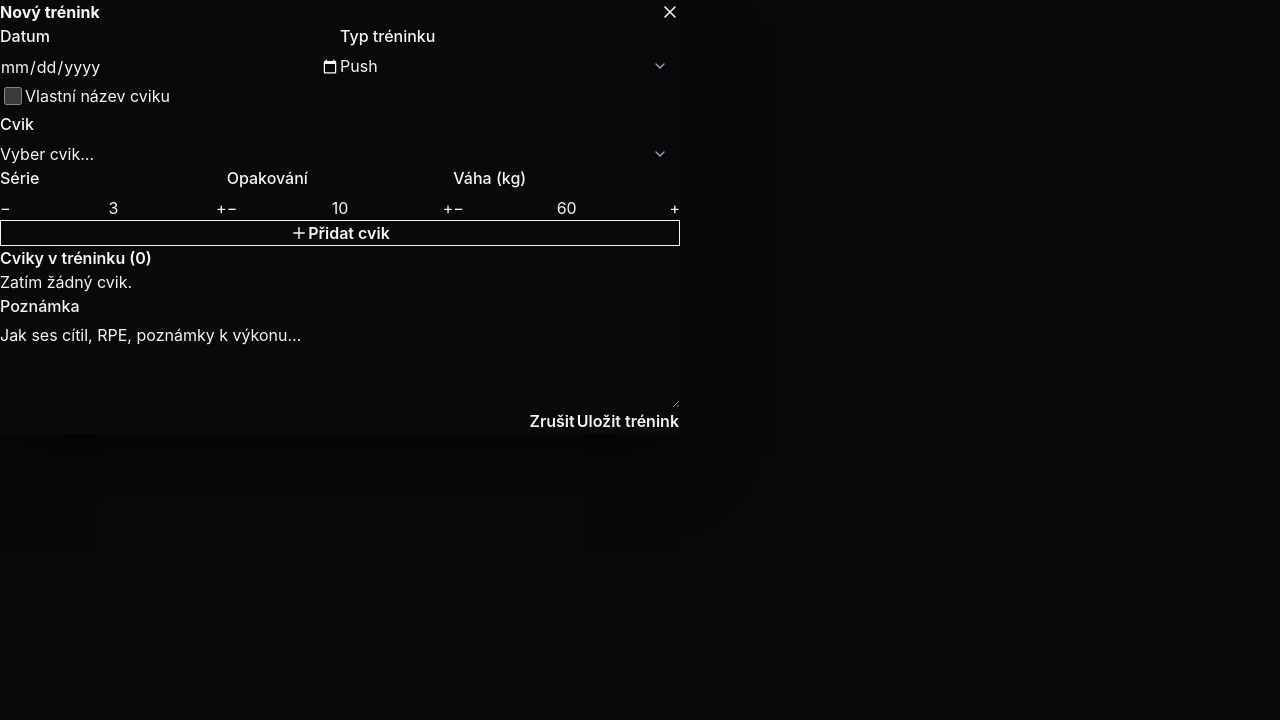
WorkoutForm › rejects 0 sets
Step 1. Select "Bench Press (Barbell)" in the dropdown labelled "Cvik" → (340, 154), box [0, 142, 680, 166]
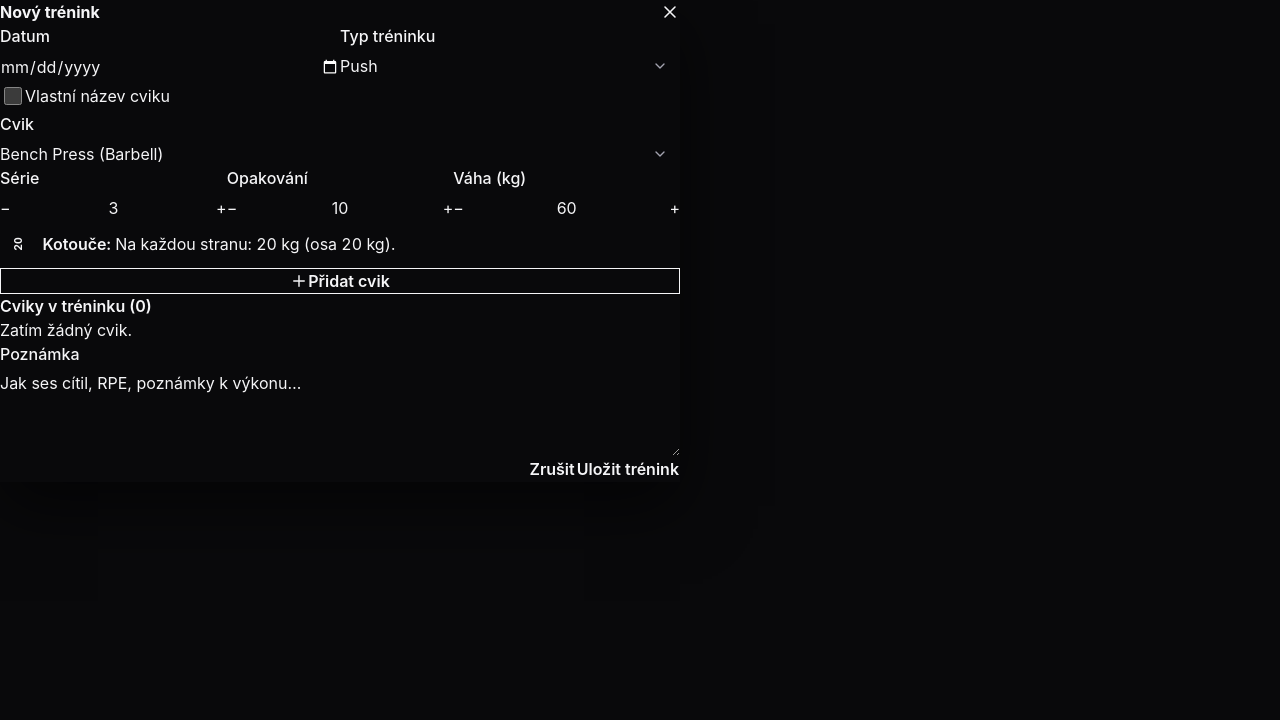
Step 2. Replace the text in the number field labelled "Série" with "0" → (113, 208), box [11, 196, 216, 220]
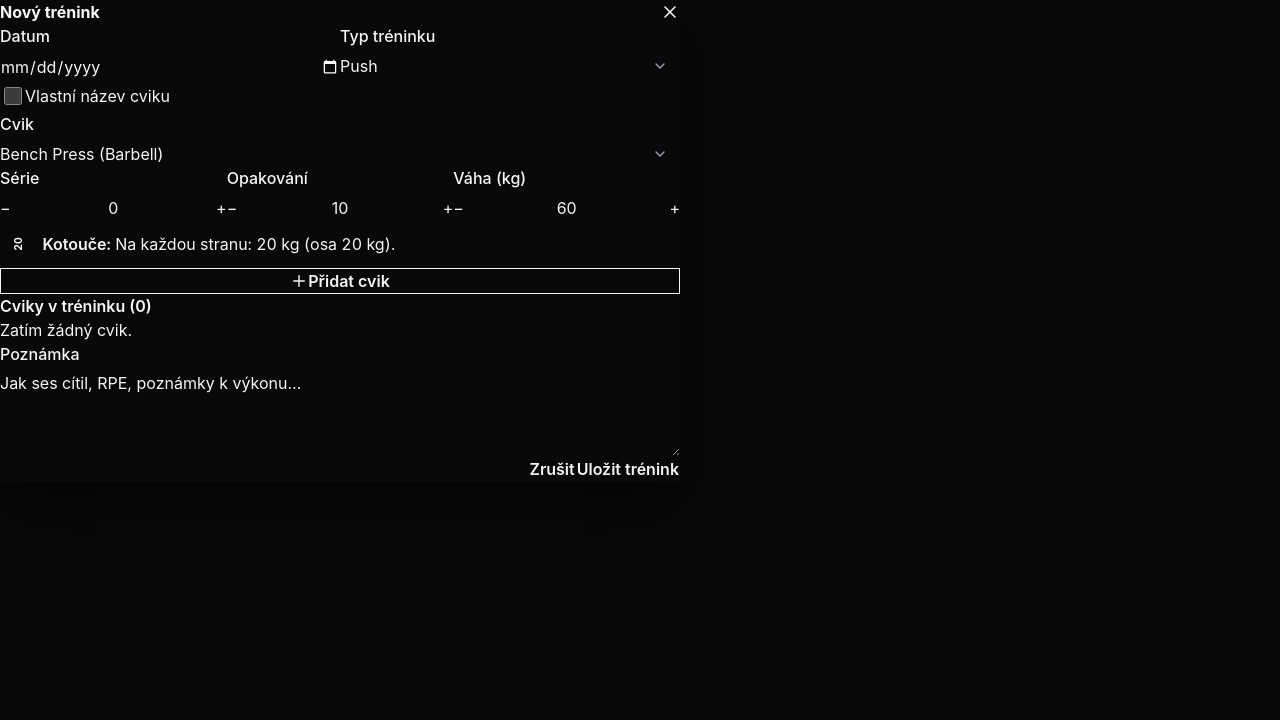
Step 3. Replace the text in the number field labelled "Opakování" with "8" → (340, 208), box [237, 196, 443, 220]
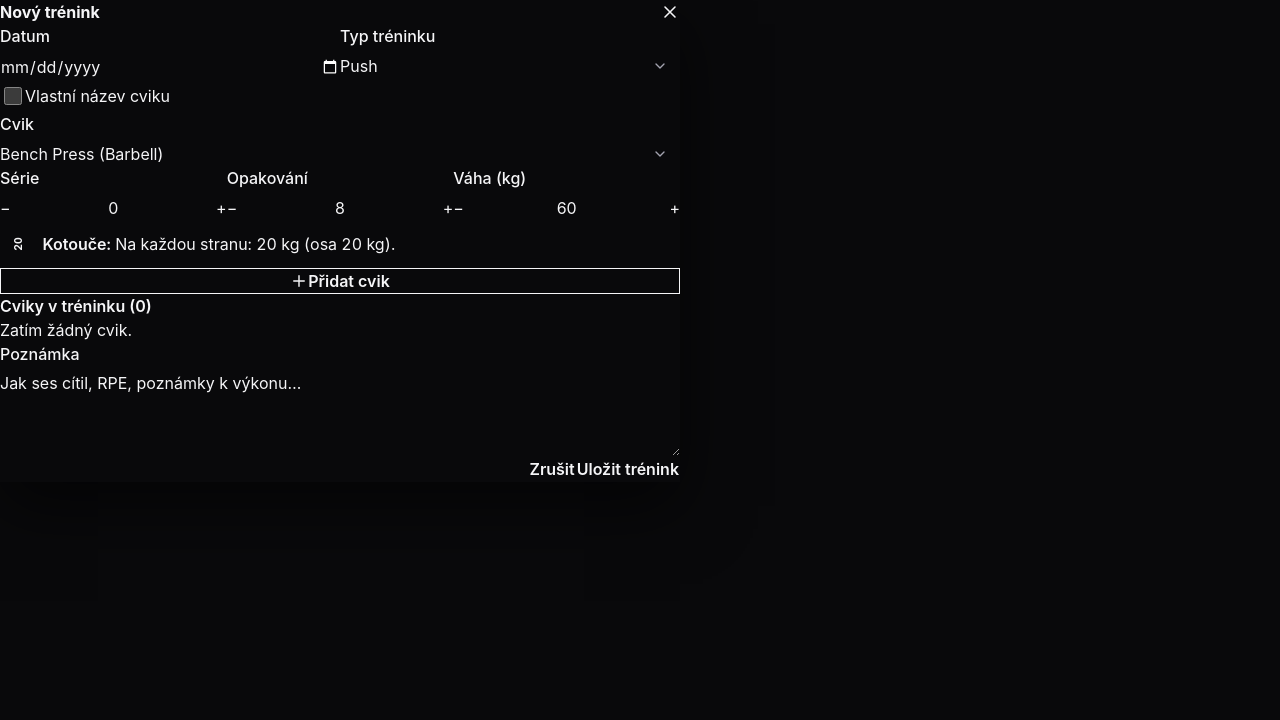
Step 4. Replace the text in the number field labelled "Váha (kg)" with "80" → (567, 208), box [464, 196, 669, 220]
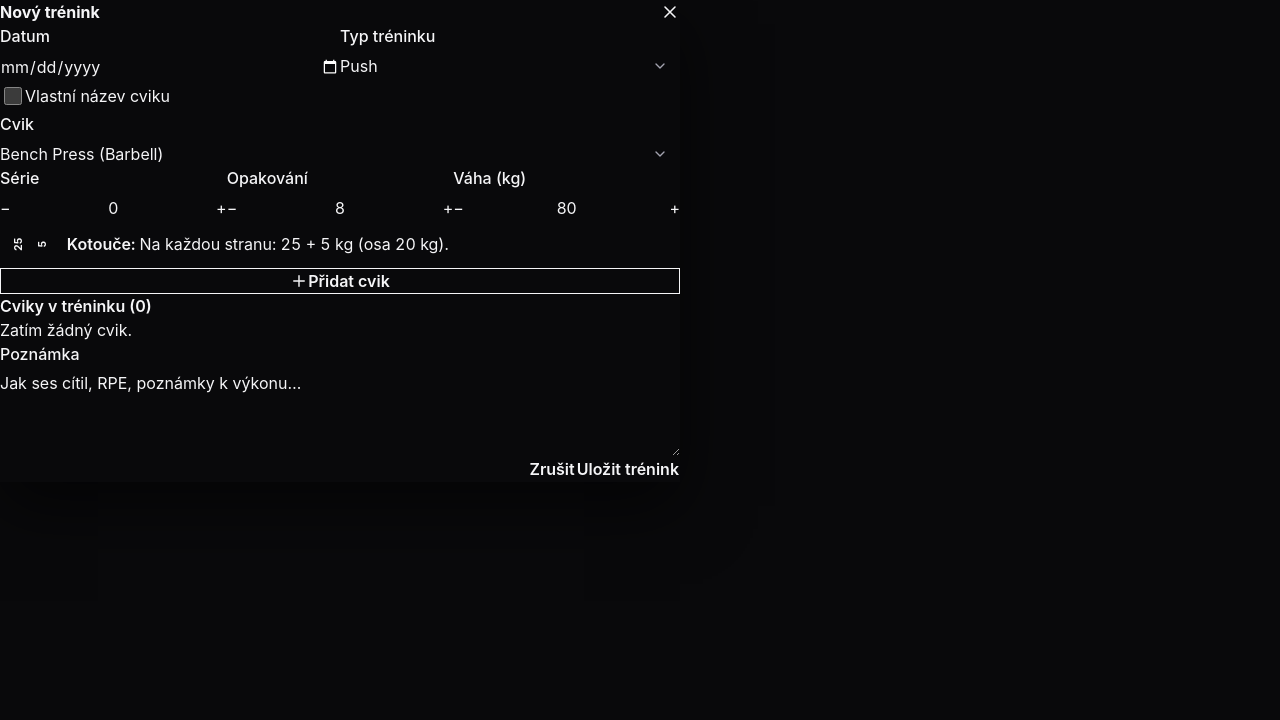
Step 5. Click the button "Přidat cvik" → (340, 281), box [0, 268, 680, 294]
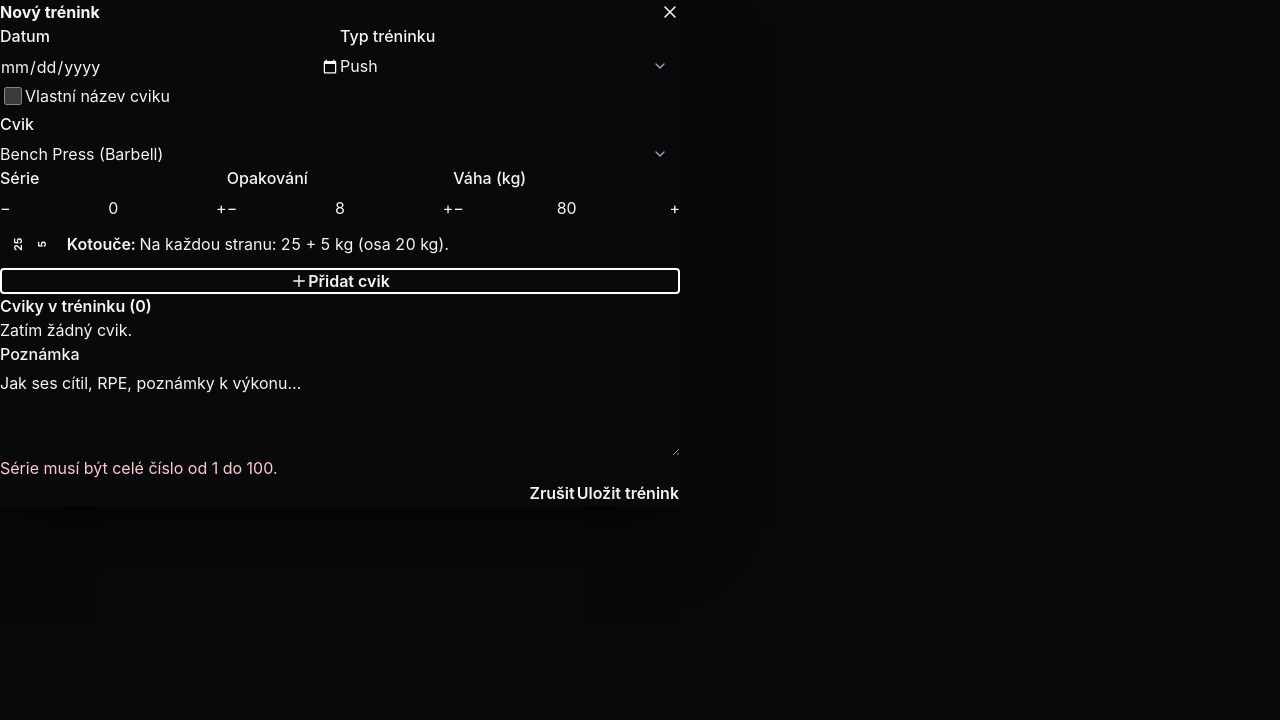
Expected: the heading "Cviky v tréninku (0)" is shown, [0, 296, 152, 316]
Result: the message shows "Série" at [0, 458, 278, 478]
